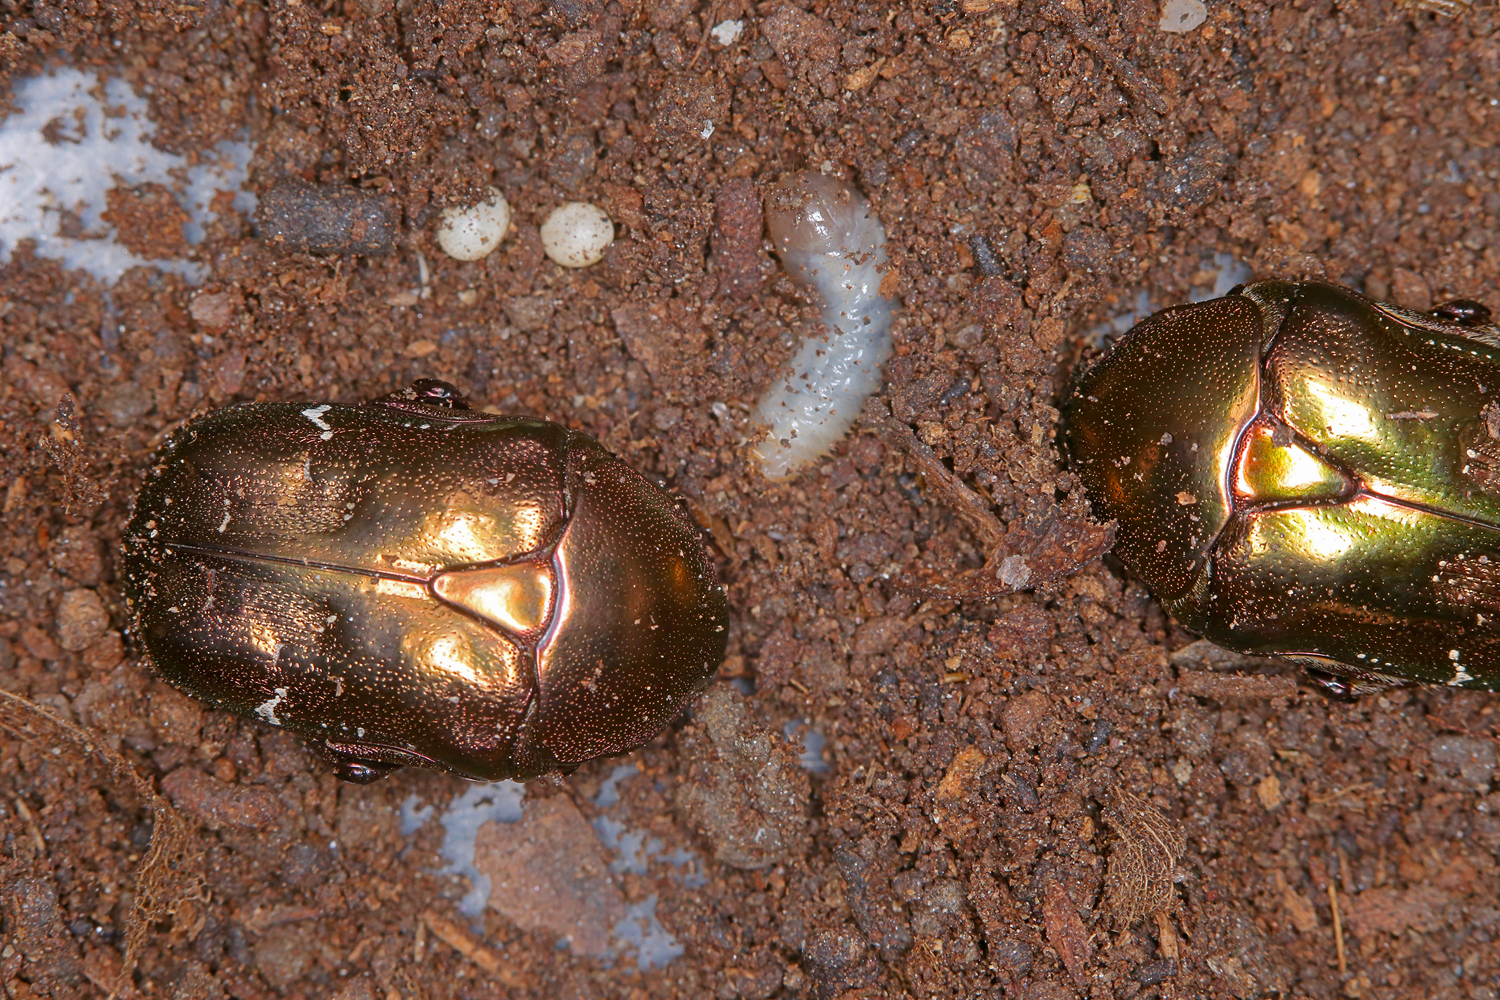Protaetia_fieberi: (100, 374, 733, 788), (1050, 265, 1500, 717)
